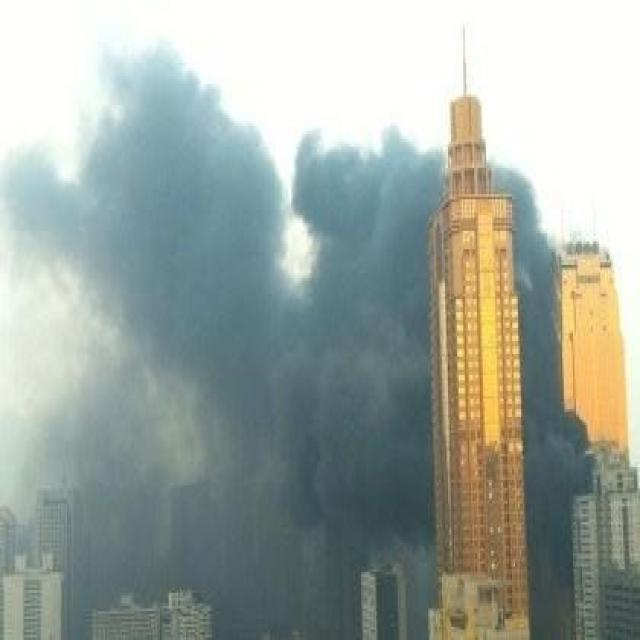Smoke: (2, 31, 450, 640), (490, 162, 592, 640)
